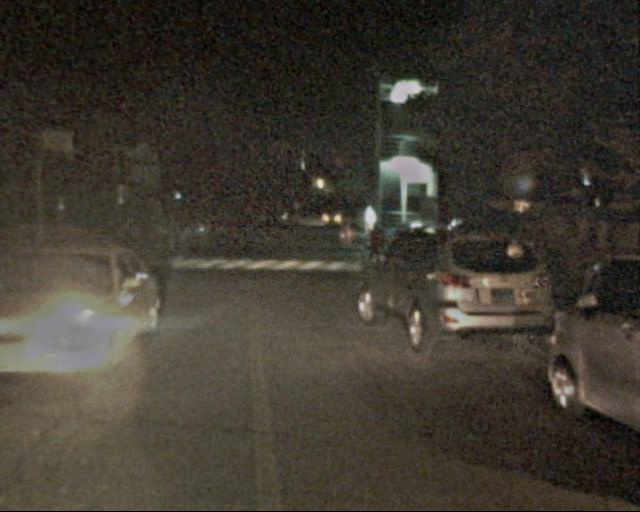person: (362, 224, 386, 283), (121, 215, 143, 269), (167, 220, 184, 258)
